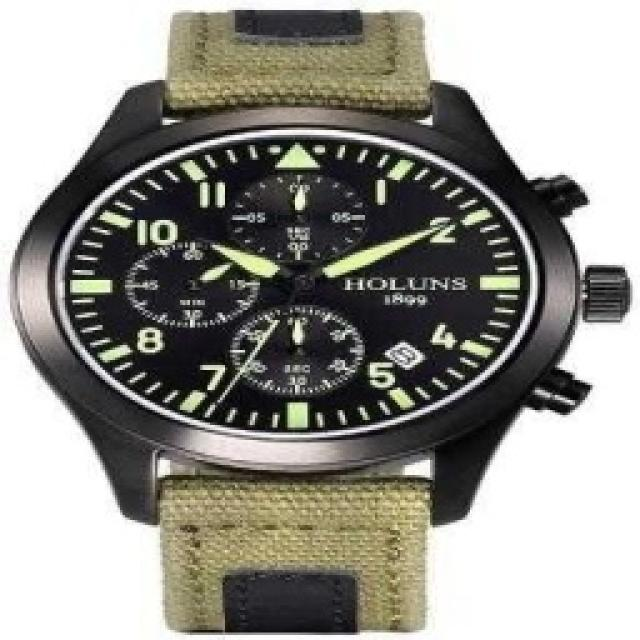saat: (0, 6, 640, 632)
